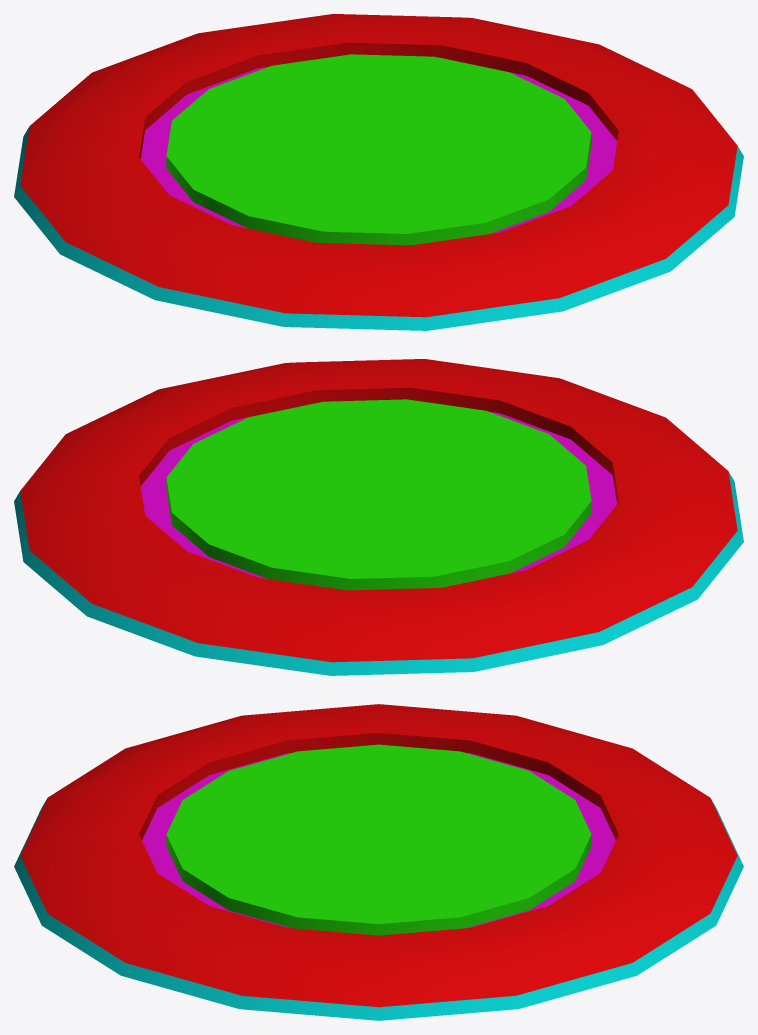
Rendered from CompoundDiscus_Projectile.fbx.
3 renders of one model, top to bottom at view 1: azimuth 30°, elevation 25°; view 2: azimuth 150°, elevation 25°; view 3: azimuth 270°, elevation 25°, orthographic.
Parts seen in each view (by area): view 1: Discus; view 2: Discus; view 3: Discus.
Part boxes in pixels (bbox=[...]): Discus: bbox=[14, 14, 743, 330]; Discus: bbox=[14, 359, 743, 675]; Discus: bbox=[14, 704, 743, 1020].
Bounding box in the file's own units: 11.86 × 0.5808 × 11.86.
